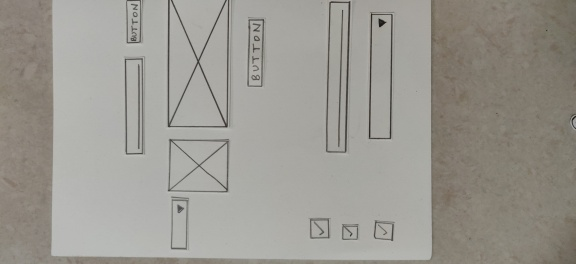button: (244, 16, 267, 91), (123, 1, 146, 46)
checkbox: (369, 218, 398, 244), (306, 215, 333, 242), (339, 221, 360, 243)
dropdown: (364, 9, 396, 144), (167, 194, 191, 253)
img: (163, 1, 234, 131), (164, 136, 232, 195)
text: (323, 1, 354, 157), (121, 55, 148, 157)
